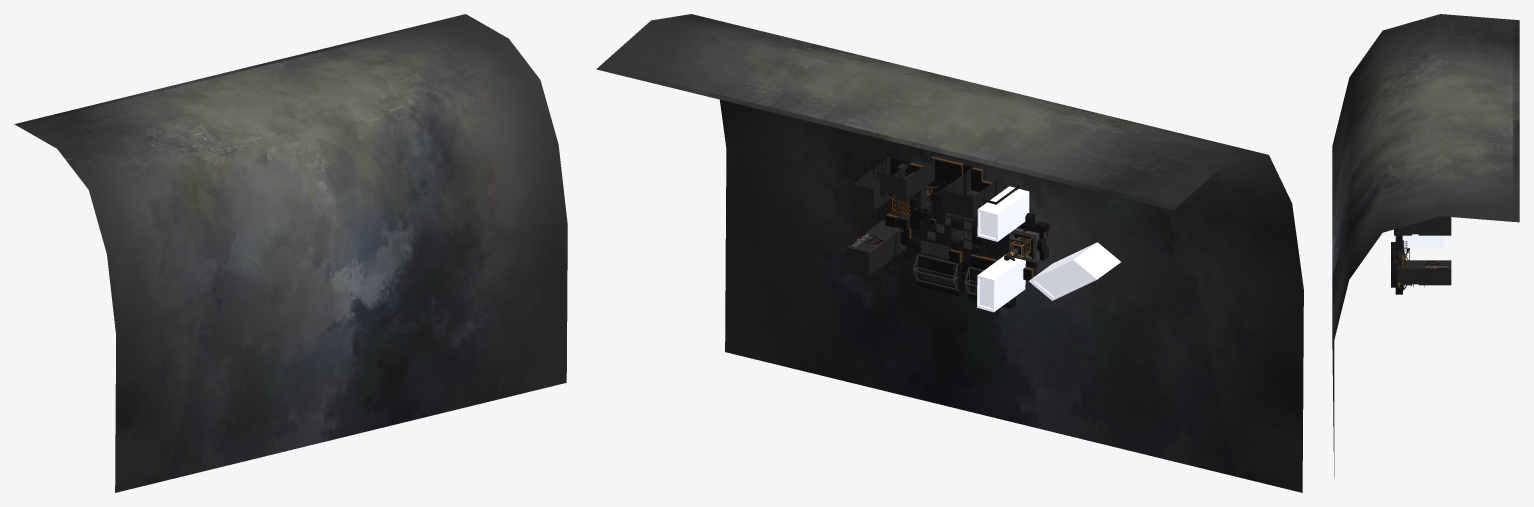
Rendered from BATTLE.fbx.
3 views of the same model, side by side, from view 1: azimuth 30°, elevation 25°; view 2: azimuth 150°, elevation 25°; view 3: azimuth 270°, elevation 25° (orthographic). The views are drawn at different scales.
Parts seen in each view (by area): view 1: BG_Qcity; view 2: BG_Qcity, Shadow (3), Shadow (5), Shadow (4), S_Outworld_prop_0374, S_Outworld_prop_0638, OP_150, S_Outworld_prop_015, S_Outworld_prop_00, S_Outworld_prop_0243; view 3: BG_Qcity, S_Outworld_prop_0638, S_Outworld_prop_0639, Shadow (4), S_Outworld_prop_00, S_Outworld_prop_01.
Boxes of the visible parts, box(x1,y1,x2,y2) form: BG_Qcity: box(14, 14, 567, 492); BG_Qcity: box(596, 14, 1303, 492); Shadow (3): box(1028, 242, 1120, 300); Shadow (5): box(977, 186, 1029, 241); Shadow (4): box(977, 254, 1025, 312); S_Outworld_prop_0374: box(942, 167, 1004, 218); S_Outworld_prop_0638: box(846, 233, 887, 276); OP_150: box(917, 252, 964, 296); S_Outworld_prop_015: box(879, 158, 935, 201); S_Outworld_prop_00: box(852, 171, 892, 210); S_Outworld_prop_0243: box(1004, 228, 1039, 262); BG_Qcity: box(1332, 14, 1519, 477); S_Outworld_prop_0638: box(1424, 260, 1451, 285); S_Outworld_prop_0639: box(1398, 260, 1424, 285); Shadow (4): box(1402, 234, 1444, 247); S_Outworld_prop_00: box(1424, 216, 1451, 235); S_Outworld_prop_01: box(1398, 221, 1424, 235).
Size of the model in its own units: 0.5613 by 0.3583 by 0.2194.
